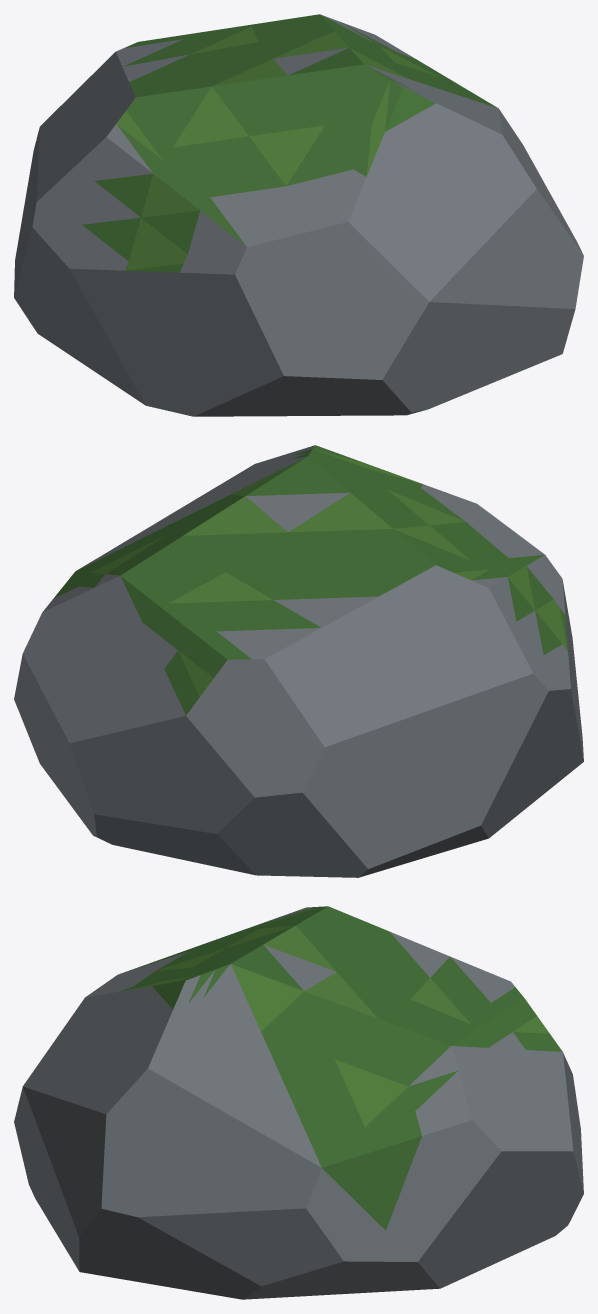
File: mdvl_nature_rock_mossy_01.glb
The picture shows the model from 3 angles, top to bottom: view 1: azimuth 30°, elevation 25°; view 2: azimuth 150°, elevation 25°; view 3: azimuth 270°, elevation 25°; orthographic projection. The views are drawn at different scales.
Visible parts, largest first — view 1: mdvl_nature_rock_mossy_01; view 2: mdvl_nature_rock_mossy_01; view 3: mdvl_nature_rock_mossy_01.
Boxes of the visible parts, <box> form: mdvl_nature_rock_mossy_01: <box>14,14,583,416</box>; mdvl_nature_rock_mossy_01: <box>14,445,583,877</box>; mdvl_nature_rock_mossy_01: <box>14,906,583,1299</box>.
Bounding box in the file's own units: 1.21 × 0.6122 × 1.26.
Materials: 1 (1 with a texture image).
